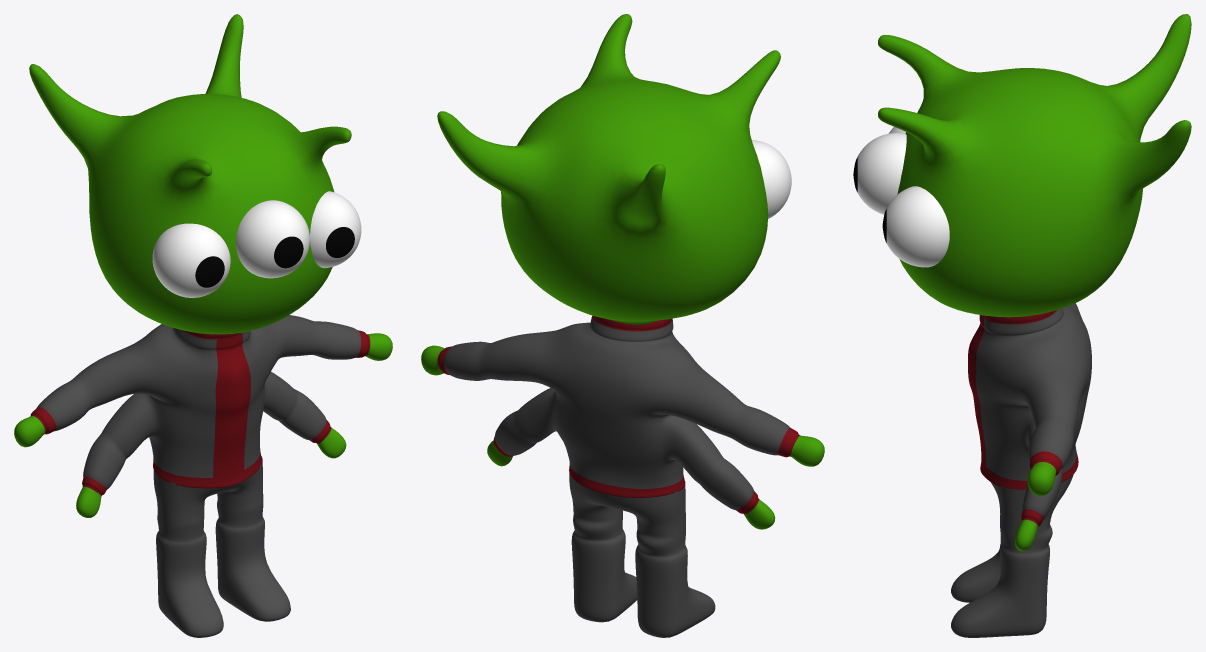
Rendered from Player1.fbx.
3 views of the same model, side by side, from view 1: azimuth 30°, elevation 25°; view 2: azimuth 150°, elevation 25°; view 3: azimuth 270°, elevation 25° (orthographic). The views are drawn at different scales.
Visible parts, largest first — view 1: Alien_Body1; view 2: Alien_Body1; view 3: Alien_Body1.
Boxes of the visible parts, x1,y1,x2,y2 form: Alien_Body1: [14, 14, 392, 637]; Alien_Body1: [421, 14, 824, 637]; Alien_Body1: [853, 14, 1191, 637].
Bounding box in the file's own units: 395 × 514 × 289.
